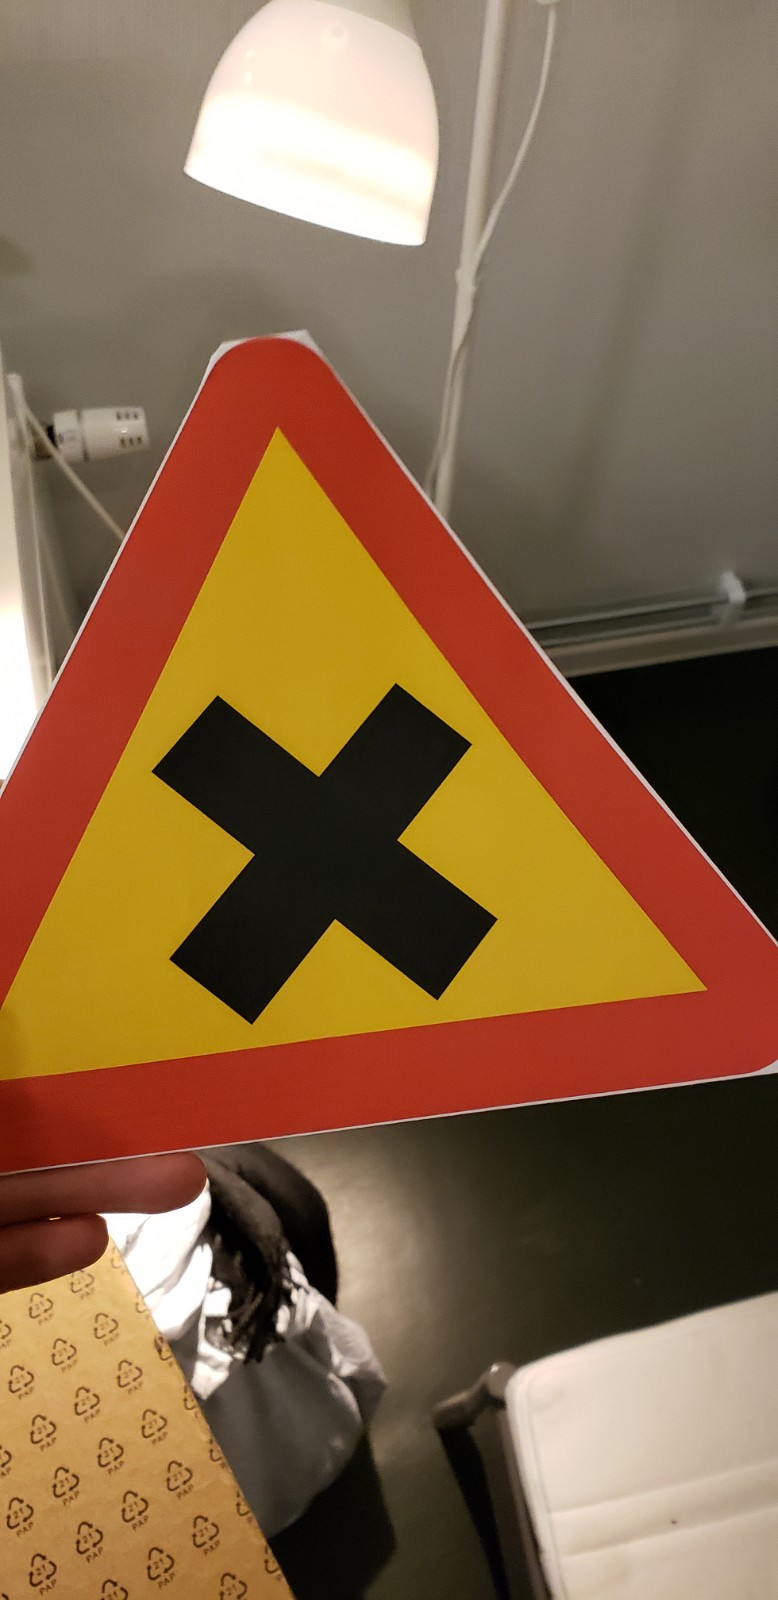junction: (2, 272, 778, 1144)
